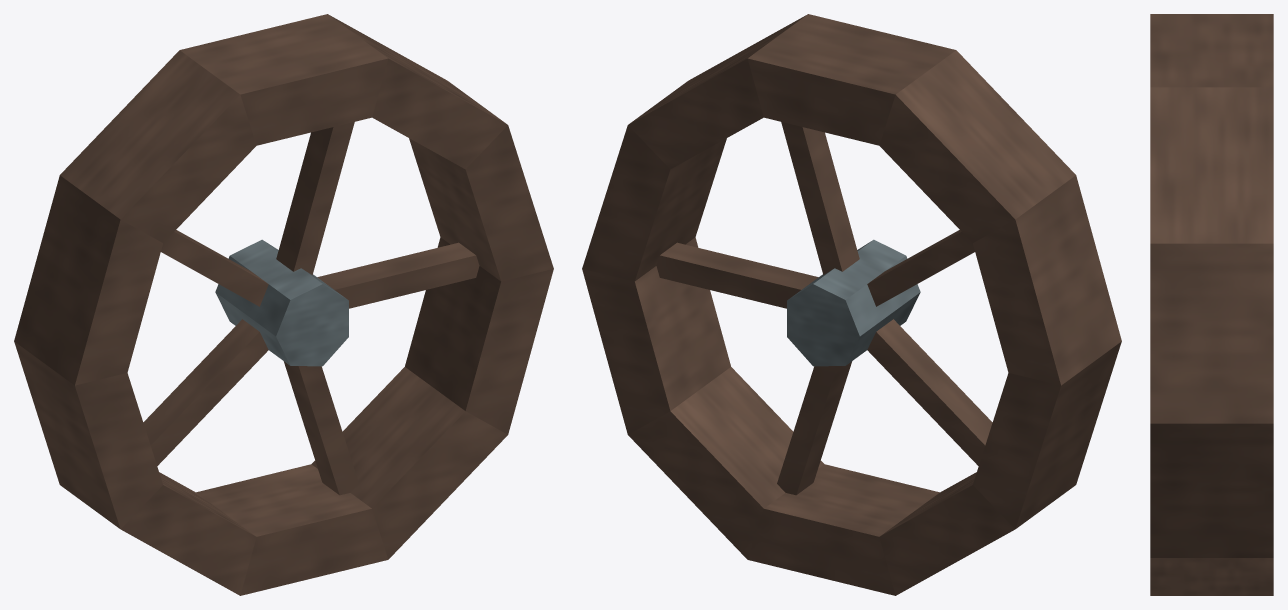
Rendered from broken_cart_wheel.fbx.
The picture shows the model from 3 angles, left to right: view 1: azimuth 30°, elevation 25°; view 2: azimuth 150°, elevation 25°; view 3: azimuth 270°, elevation 25°; orthographic projection.
Parts seen in each view (by area): view 1: broken_cart_wheel; view 2: broken_cart_wheel; view 3: broken_cart_wheel.
Part boxes in pixels (x1,y1,x2,y2): broken_cart_wheel: (14,14,553,595); broken_cart_wheel: (582,14,1121,595); broken_cart_wheel: (1150,14,1273,595).
Bounding box in the file's own units: 132 × 132 × 29.
Materials: 1 (1 with a texture image).
